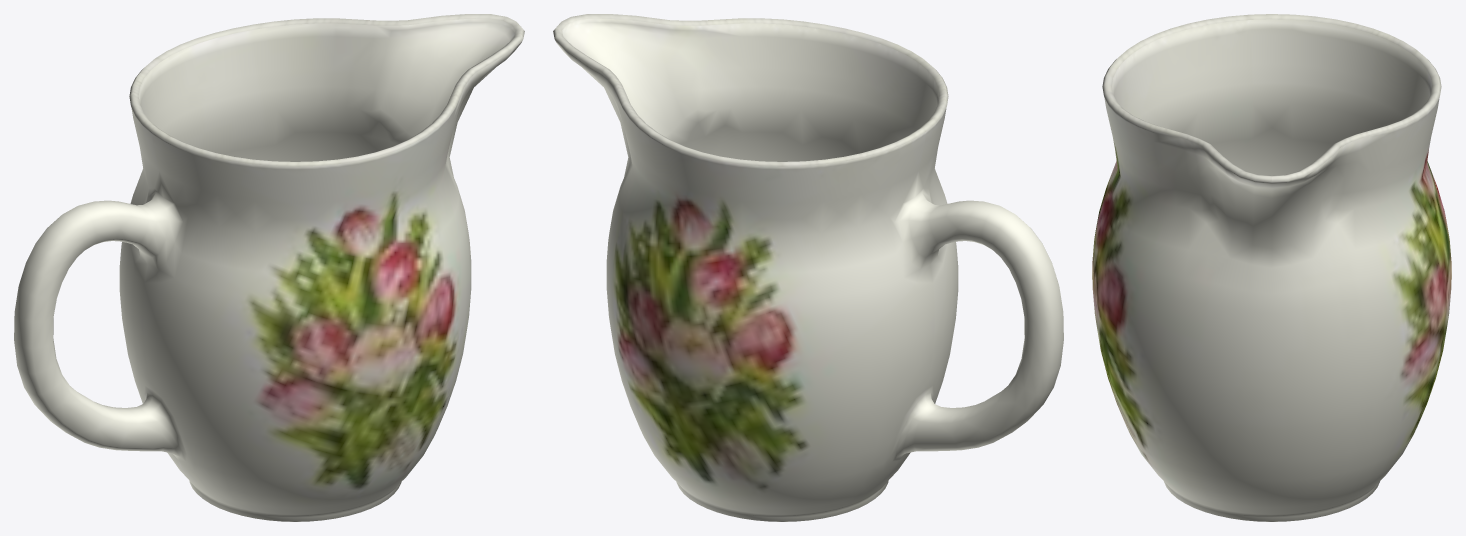
The model's file is jug.glb.
The picture shows the model from 3 angles, left to right: view 1: azimuth 30°, elevation 25°; view 2: azimuth 150°, elevation 25°; view 3: azimuth 270°, elevation 25°; orthographic projection. The views are drawn at different scales.
Parts seen in each view (by area): view 1: jug_01; view 2: jug_01; view 3: jug_01.
Part boxes in pixels (x1,y1,x2,y2): jug_01: (14,14,524,521); jug_01: (553,14,1063,521); jug_01: (1092,14,1451,521).
Bounding box in the file's own units: 0.2753 × 0.2113 × 0.1675.
Materials: 1 (1 with a texture image).
